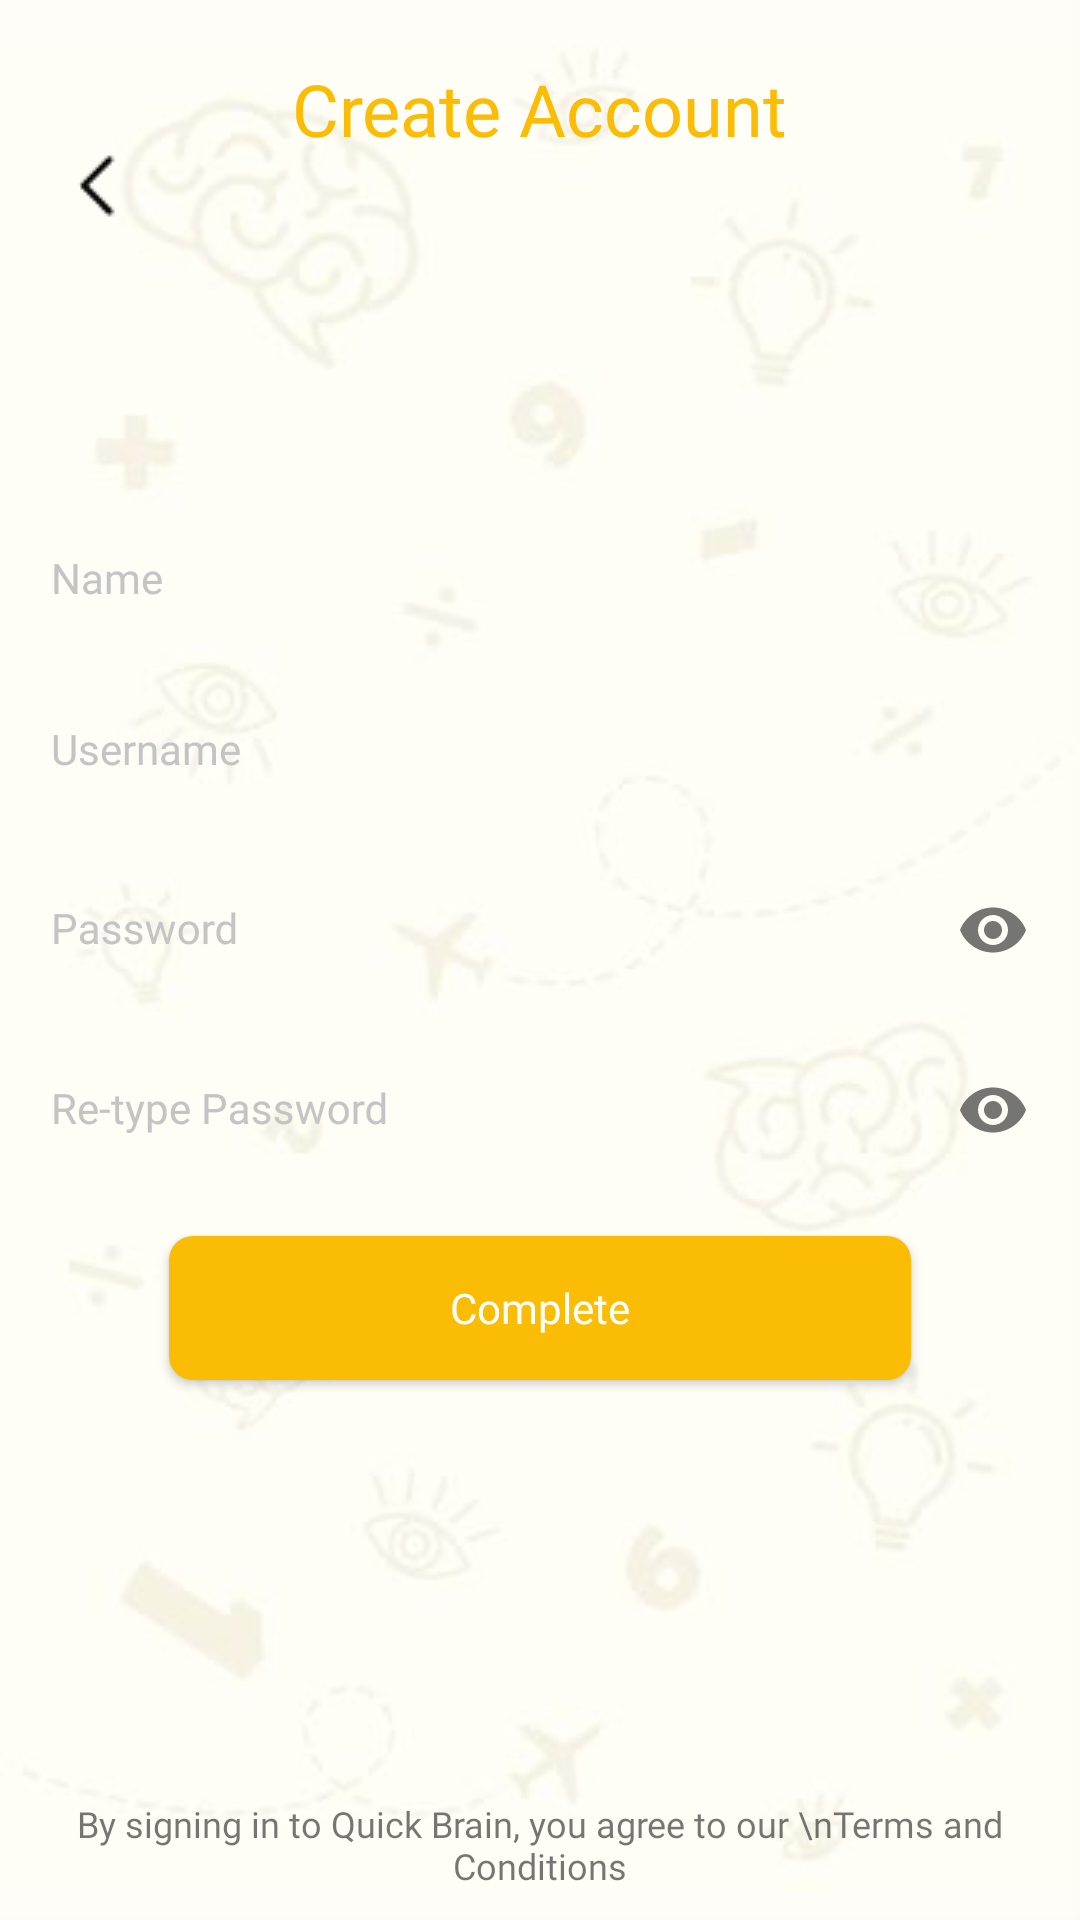

Locate icon controls on the screen. Image size 1080px x 1920px, boxes as rect(x1, y1, x2, y2).
back: rect(80, 155, 115, 217)
